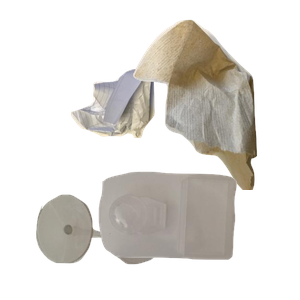glass: (34, 192, 187, 300)
paper: (68, 66, 215, 197)
plastic: (96, 169, 300, 300)
trash: (131, 17, 300, 197)
